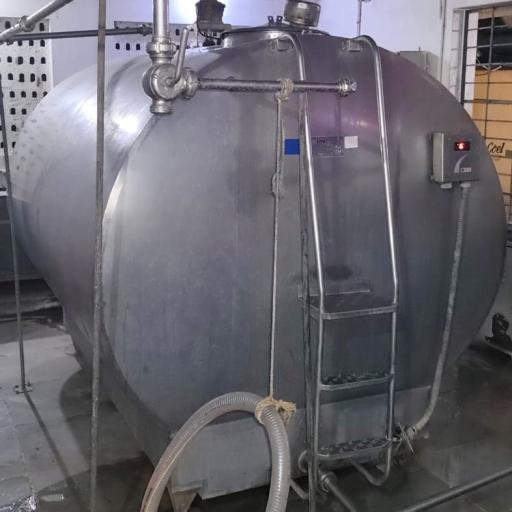silo: (3, 19, 510, 502)
